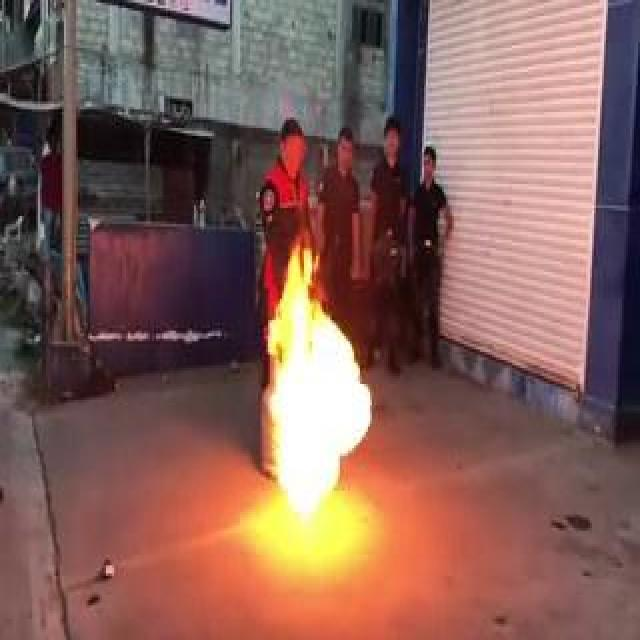Fire: (255, 218, 375, 530)
